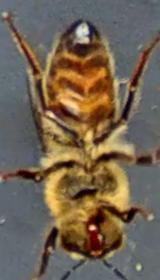varroa_mite: (31, 93, 73, 131)
